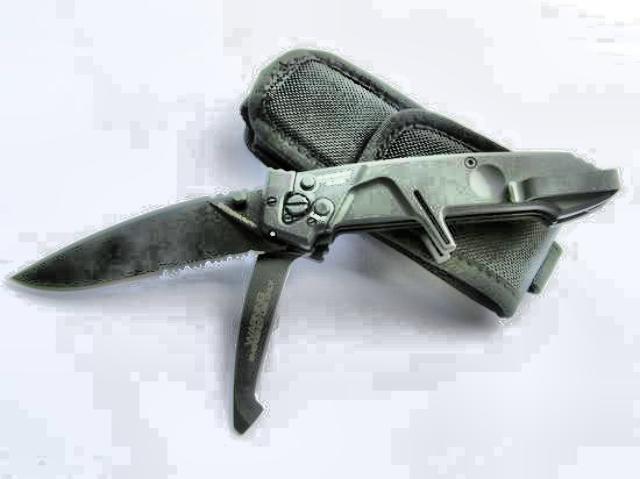knife: (4, 166, 276, 298)
